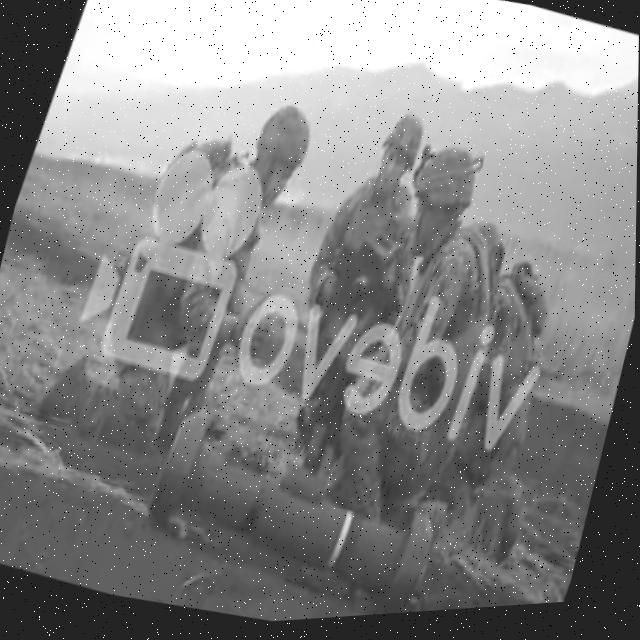rocket: (131, 392, 466, 633)
